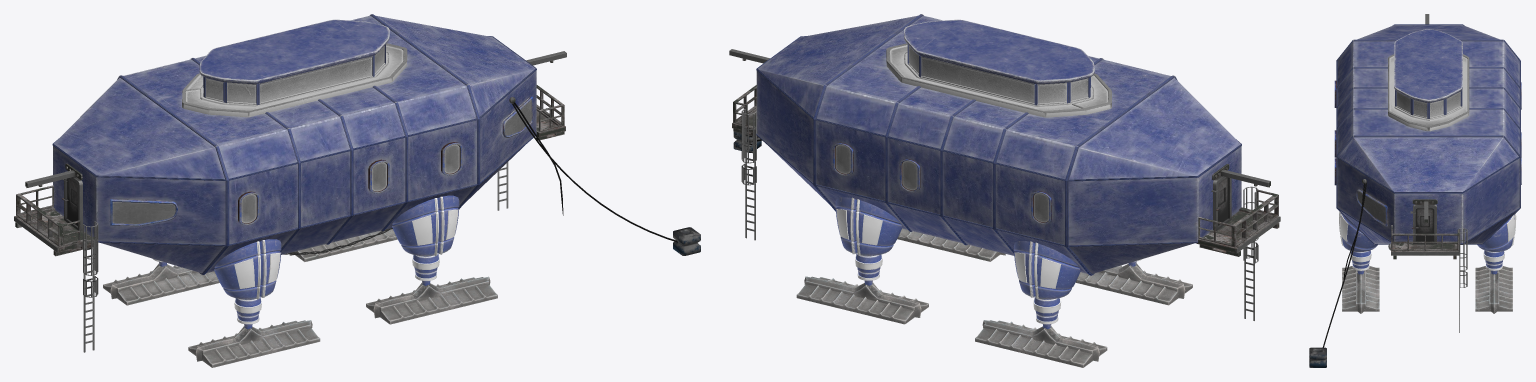
File: halley-vi-dorm-pod-2k.glb
3 views of the same model, side by side, from view 1: azimuth 30°, elevation 25°; view 2: azimuth 150°, elevation 25°; view 3: azimuth 270°, elevation 25° (orthographic). The views are drawn at different scales.
Parts seen in each view (by area): view 1: Box101, Object014_BODY_0, Object012_BODY_0, Box061, Box103, Cylinder074, Cylinder030, Box105, Box051, Shape012, Shape004, Box048 (+16 smaller); view 2: Box101, Object014_BODY_0, Object012_BODY_0, Box105, Box104, Cylinder076, Cylinder078, Box103, Box051, Shape012, Box048, Box061 (+16 smaller); view 3: Box101, Object014_BODY_0, Object012_BODY_0, Box104, Box061, Shape008, Box122, Shape012, Cylinder030, Cylinder076, Box118, Box121 (+13 smaller).
Boxes of the visible parts, x1=… form: Box101: x1=53, y1=15, x2=536, y2=273; Object014_BODY_0: x1=199, y1=19, x2=389, y2=84; Object012_BODY_0: x1=182, y1=43, x2=407, y2=117; Box061: x1=366, y1=276, x2=497, y2=324; Box103: x1=188, y1=320, x2=320, y2=367; Cylinder074: x1=214, y1=239, x2=281, y2=299; Cylinder030: x1=392, y1=195, x2=459, y2=256; Box105: x1=103, y1=263, x2=219, y2=305; Box051: x1=16, y1=185, x2=80, y2=246; Shape012: x1=52, y1=36, x2=536, y2=180; Shape004: x1=112, y1=202, x2=175, y2=224; Box048: x1=14, y1=207, x2=94, y2=252; Box101: x1=756, y1=15, x2=1241, y2=273; Object014_BODY_0: x1=904, y1=19, x2=1094, y2=84; Object012_BODY_0: x1=886, y1=43, x2=1111, y2=117; Box105: x1=975, y1=320, x2=1107, y2=367; Box104: x1=796, y1=276, x2=928, y2=324; Cylinder076: x1=835, y1=197, x2=902, y2=255; Cylinder078: x1=1014, y1=241, x2=1080, y2=299; Box103: x1=1075, y1=263, x2=1192, y2=305; Box051: x1=1198, y1=189, x2=1278, y2=247; Shape012: x1=756, y1=36, x2=1241, y2=181; Box048: x1=1196, y1=207, x2=1280, y2=253; Box061: x1=897, y1=228, x2=1005, y2=261; Box101: x1=1337, y1=25, x2=1519, y2=243; Object014_BODY_0: x1=1394, y1=29, x2=1462, y2=102; Object012_BODY_0: x1=1388, y1=54, x2=1469, y2=131; Box104: x1=1475, y1=266, x2=1512, y2=313; Box061: x1=1342, y1=266, x2=1379, y2=313; Shape008: x1=1336, y1=135, x2=1520, y2=244; Box122: x1=1410, y1=204, x2=1436, y2=244; Shape012: x1=1336, y1=24, x2=1520, y2=193; Cylinder030: x1=1339, y1=211, x2=1377, y2=251; Cylinder076: x1=1477, y1=213, x2=1516, y2=251; Box118: x1=1391, y1=242, x2=1459, y2=255; Box121: x1=1391, y1=225, x2=1459, y2=250.
Bounding box in the file's own units: 144 × 56.74 × 56.57.
Materials: 6 (3 with a texture image).
